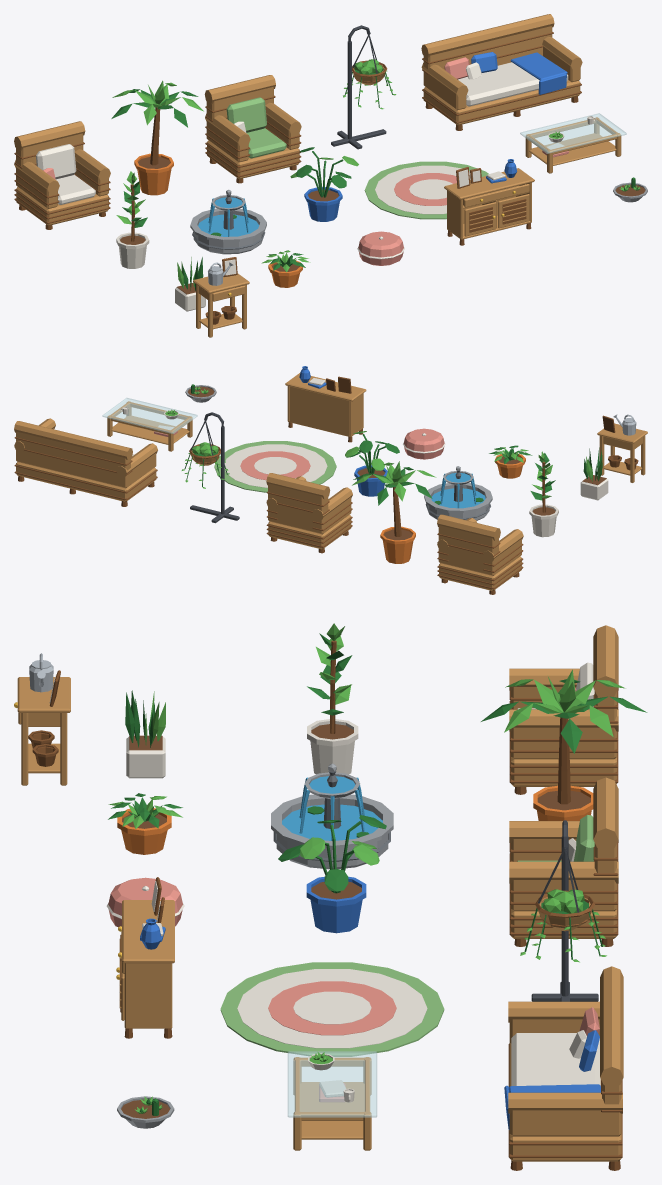
The model's file is cosy-sunroom-set.glb.
The picture shows the model from 3 angles, top to bottom: view 1: azimuth 30°, elevation 25°; view 2: azimuth 150°, elevation 25°; view 3: azimuth 270°, elevation 25°; orthographic projection. The views are drawn at different scales.
Parts seen in each view (by area): view 1: Daybed_Wicker_Body, Armchair_Wicker_Sage_Body, Armchair_Wicker_Cream_Body, Rug_Round_Body, CoffeeTable_Glass_Body, Fountain_Small_Body, Sideboard_Wicker_Body, Plant_Palm_Tall_Body, HangingBasket_Stand_Body, PlantStand_WateringCan_Body, Daybed_Mattress, Plant_Monstera_Body (+10 smaller); view 2: Daybed_Wicker_Body, Armchair_Wicker_Sage_Body, Armchair_Wicker_Cream_Body, Rug_Round_Body, Sideboard_Wicker_Body, CoffeeTable_Glass_Body, Fountain_Small_Body, Plant_Palm_Tall_Body, PlantStand_WateringCan_Body, HangingBasket_Stand_Body, Plant_Monstera_Body, Plant_FiddleLeaf_Body (+4 smaller); view 3: Rug_Round_Body, Daybed_Wicker_Body, Armchair_Wicker_Sage_Body, Armchair_Wicker_Cream_Body, CoffeeTable_Glass_Body, Fountain_Small_Body, Sideboard_Wicker_Body, Plant_Palm_Tall_Body, Plant_Monstera_Body, PlantStand_WateringCan_Body, HangingBasket_Stand_Body, Plant_FiddleLeaf_Body (+5 smaller).
Boxes of the visible parts, left/top/right/bottom form: Daybed_Wicker_Body: left=421, top=14, right=582, bottom=130; Armchair_Wicker_Sage_Body: left=204, top=75, right=301, bottom=183; Armchair_Wicker_Cream_Body: left=14, top=121, right=110, bottom=229; Rug_Round_Body: left=364, top=161, right=488, bottom=219; CoffeeTable_Glass_Body: left=520, top=113, right=626, bottom=173; Fountain_Small_Body: left=190, top=189, right=266, bottom=254; Sideboard_Wicker_Body: left=444, top=159, right=534, bottom=245; Plant_Palm_Tall_Body: left=111, top=80, right=203, bottom=195; HangingBasket_Stand_Body: left=331, top=25, right=396, bottom=149; PlantStand_WateringCan_Body: left=193, top=257, right=249, bottom=337; Daybed_Mattress: left=458, top=62, right=568, bottom=106; Plant_Monstera_Body: left=290, top=147, right=358, bottom=221; Daybed_Wicker_Body: left=14, top=418, right=157, bottom=506; Armchair_Wicker_Sage_Body: left=266, top=473, right=352, bottom=553; Armchair_Wicker_Cream_Body: left=437, top=514, right=523, bottom=594; Rug_Round_Body: left=214, top=441, right=336, bottom=492; Sideboard_Wicker_Body: left=285, top=366, right=366, bottom=442; CoffeeTable_Glass_Body: left=102, top=398, right=197, bottom=451; Fountain_Small_Body: left=424, top=466, right=492, bottom=520; Plant_Palm_Tall_Body: left=352, top=461, right=436, bottom=563; PlantStand_WateringCan_Body: left=597, top=415, right=647, bottom=482; HangingBasket_Stand_Body: left=181, top=412, right=239, bottom=523; Plant_Monstera_Body: left=345, top=431, right=399, bottom=496; Plant_FiddleLeaf_Body: left=529, top=451, right=558, bottom=537; Rug_Round_Body: left=220, top=962, right=444, bottom=1056; Daybed_Wicker_Body: left=504, top=966, right=623, bottom=1170; Armchair_Wicker_Sage_Body: left=509, top=777, right=618, bottom=946; Armchair_Wicker_Cream_Body: left=509, top=625, right=618, bottom=794; CoffeeTable_Glass_Body: left=287, top=1051, right=377, bottom=1150; Fountain_Small_Body: left=271, top=763, right=393, bottom=869; Sideboard_Wicker_Body: left=122, top=877, right=174, bottom=1038; Plant_Palm_Tall_Body: left=481, top=669, right=647, bottom=820; Plant_Monstera_Body: left=278, top=815, right=386, bottom=933; PlantStand_WateringCan_Body: left=17, top=670, right=70, bottom=785; HangingBasket_Stand_Body: left=520, top=820, right=606, bottom=1001; Plant_FiddleLeaf_Body: left=307, top=623, right=358, bottom=774.
Bounding box in the file's own units: 36.1 × 7.31 × 22.66.
